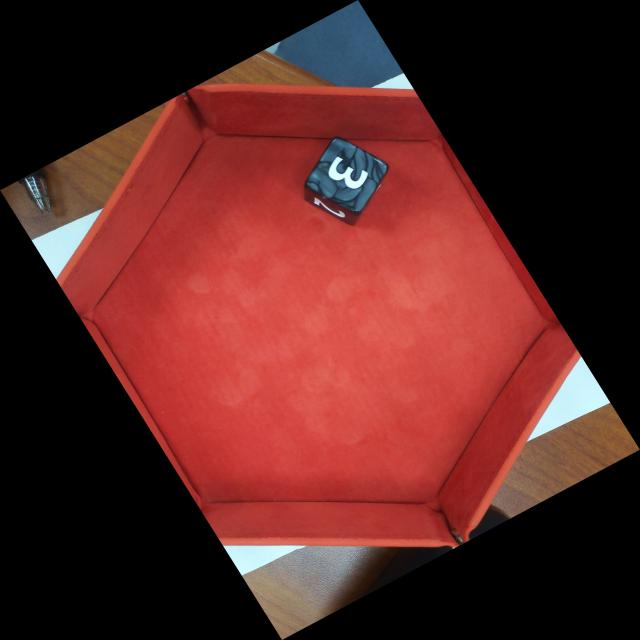dice: (307, 137, 390, 210)
